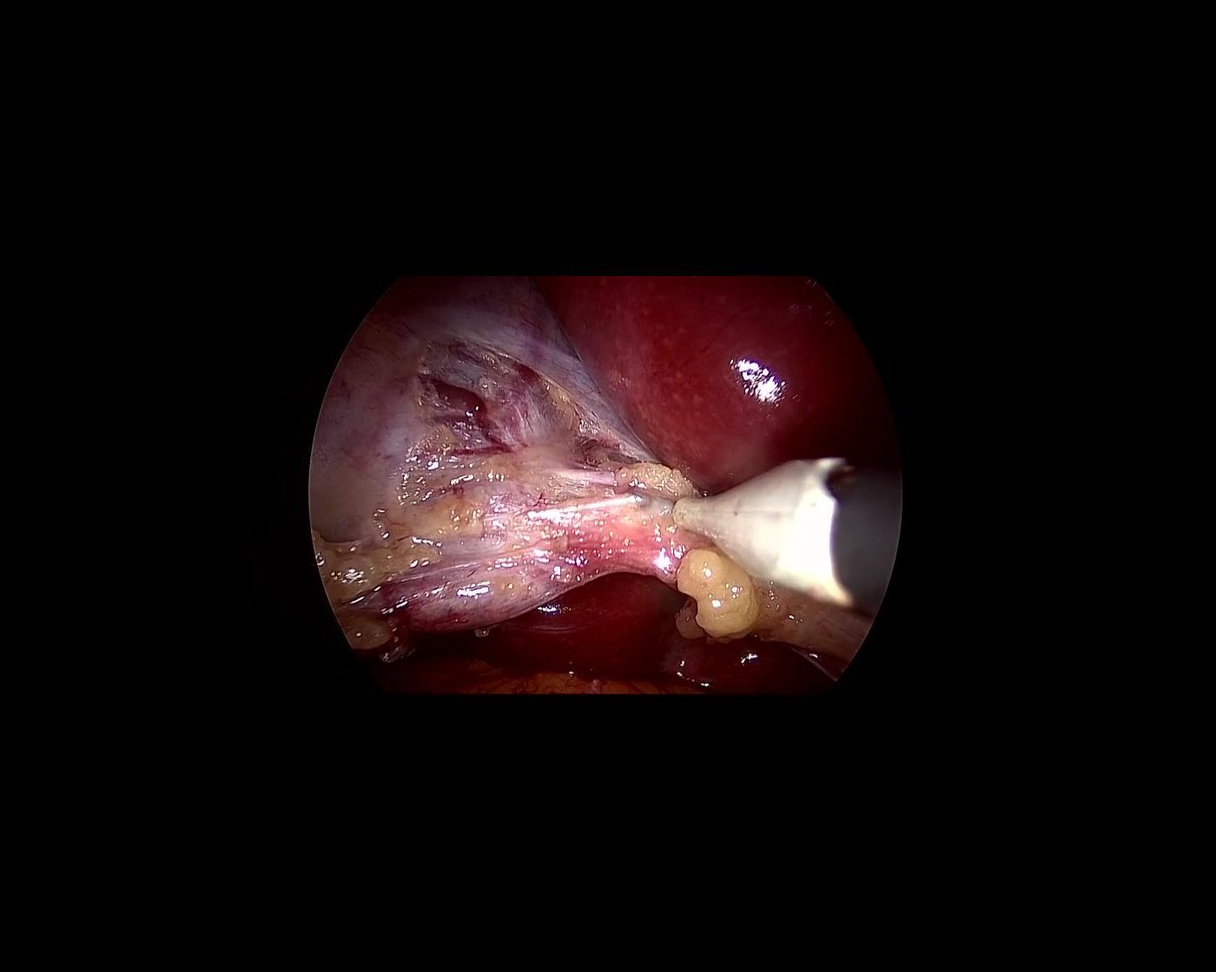Cautery: (616, 399, 915, 614)
Gallbladder: (244, 217, 696, 669)
Liver: (534, 279, 902, 493)
